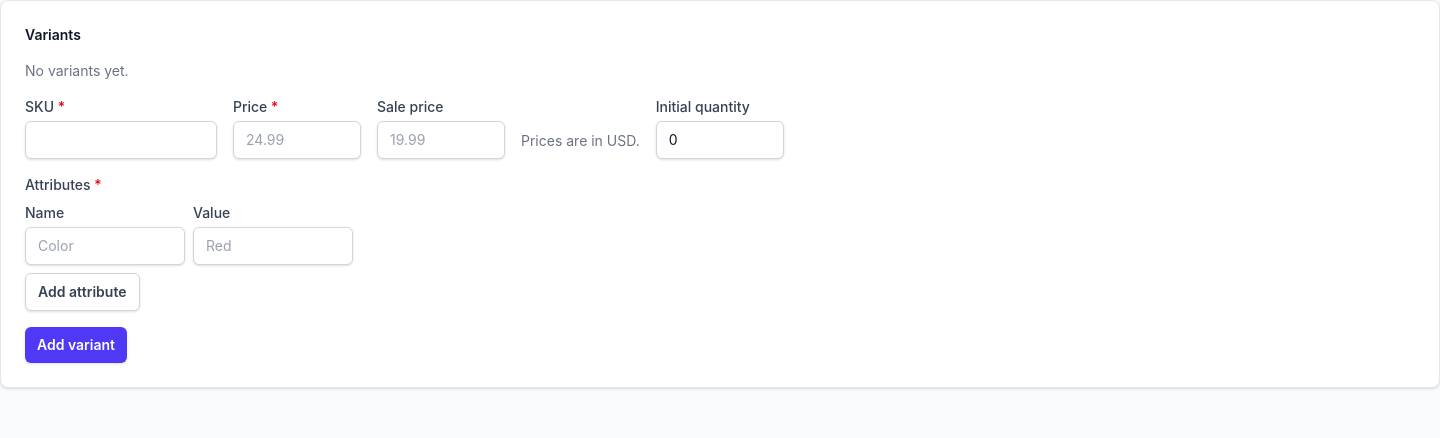
Scenario: ProductVariantsEditor › rejects submitting with no attributes filled in
Type "TSHIRT-001-RED-M" into the field labelled "SKU *".
click(121, 140); type("TSHIRT-001-RED-M")  # box [25, 121, 217, 159]
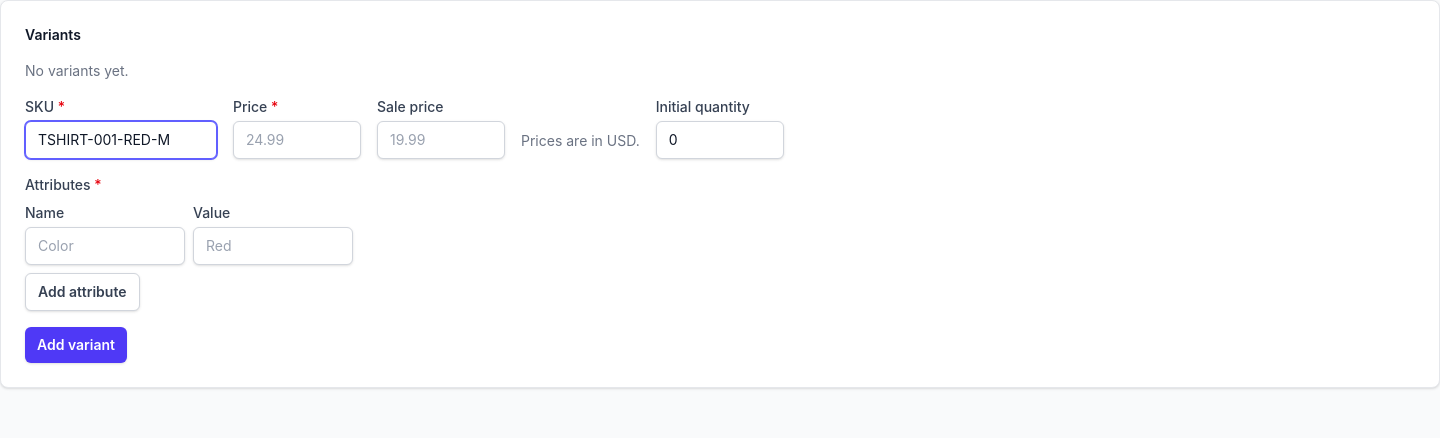
Type "26.99" into the field labelled "Price *".
click(297, 140); type("26.99")  # box [233, 121, 361, 159]
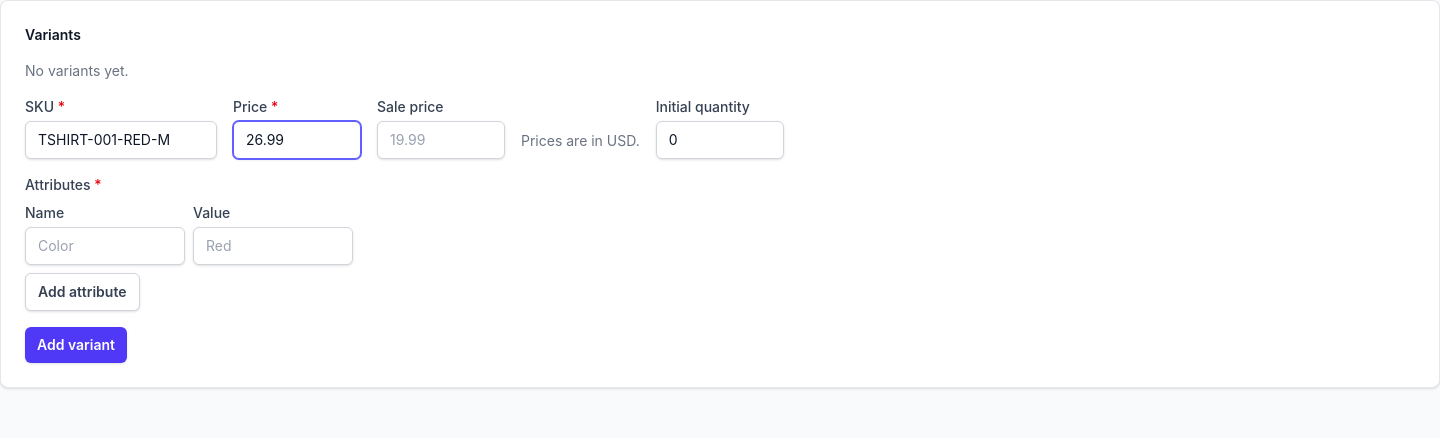
Click the button "Add variant".
click(76, 345)  # box [25, 327, 127, 363]
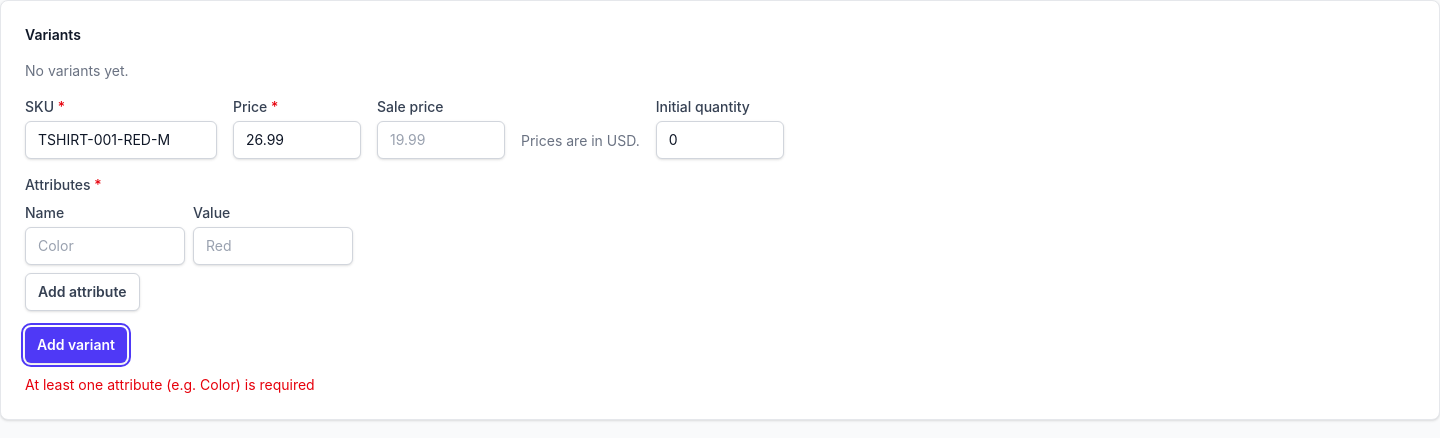
Expected: the text "At least one attribute (e.g. Color) is required" is shown, [25, 376, 315, 393]
